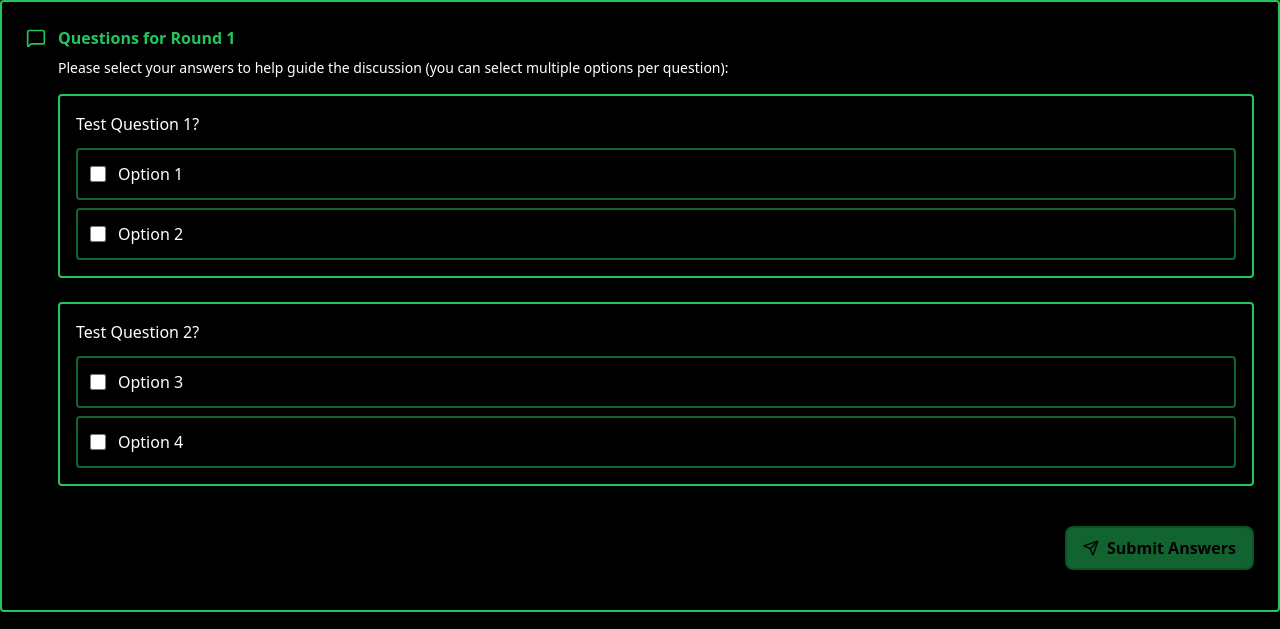
Scenario: QuestionGenerator Component › should show error message if trying to submit without answers
Click the checkbox labelled "Option 1". click: (98, 174)
box: [90, 166, 106, 182]
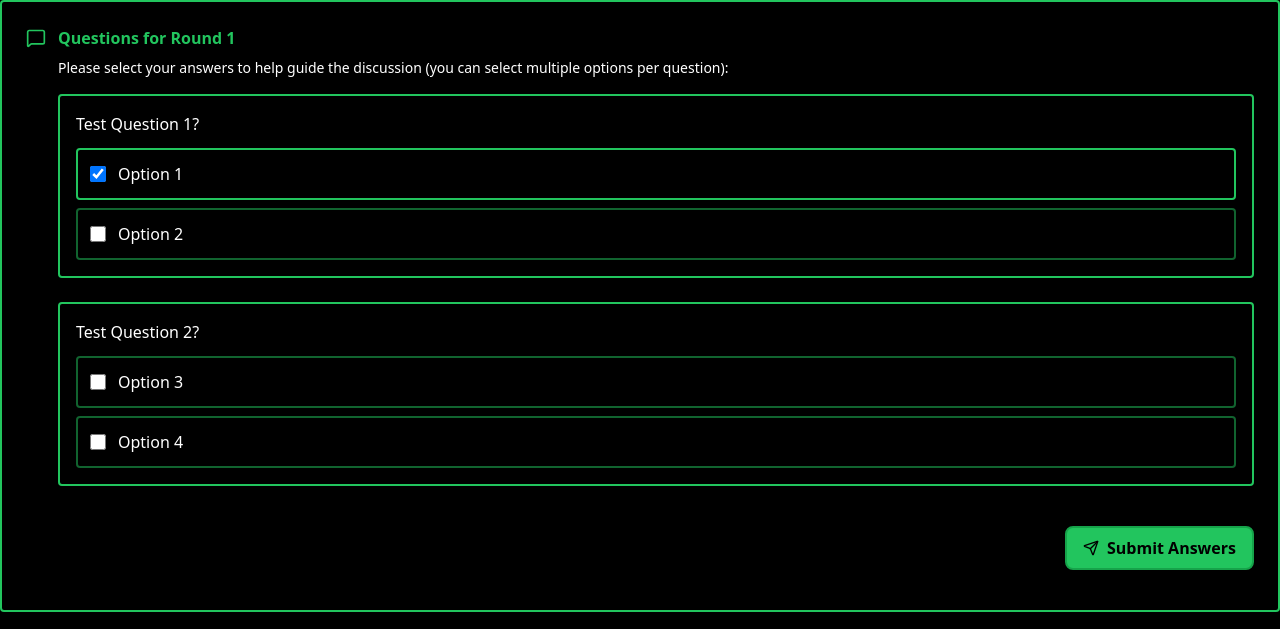
Click the checkbox labelled "Option 1". click: (98, 174)
box: [90, 166, 106, 182]
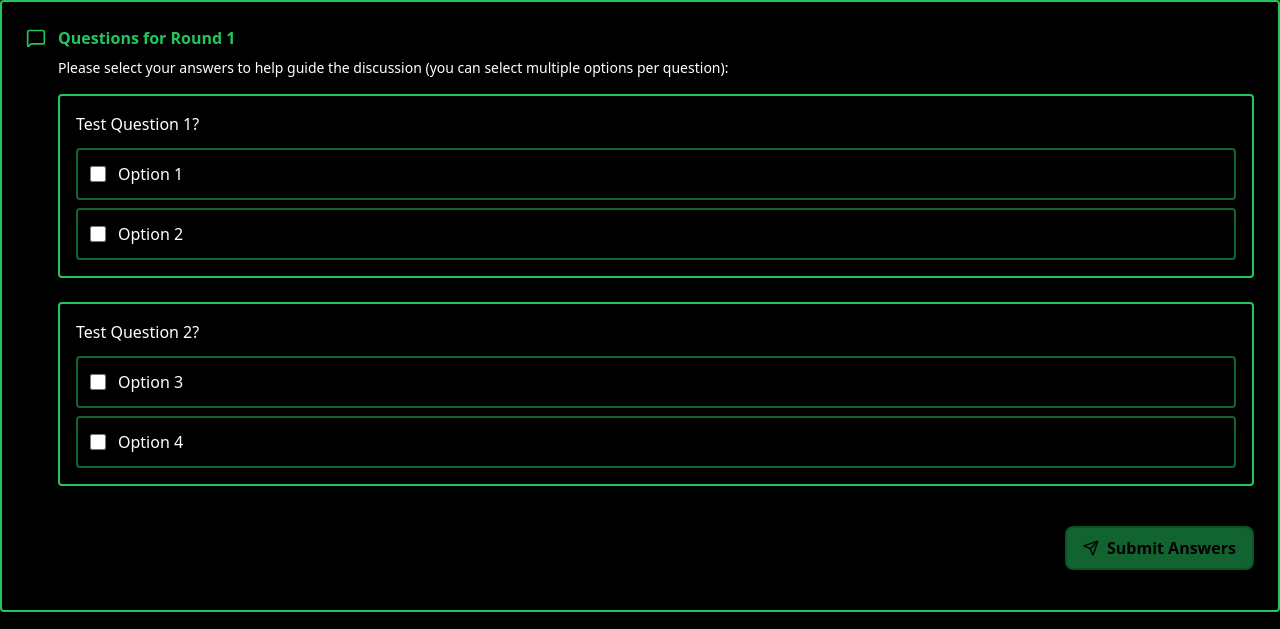
Result: the button "Submit Answers" is disabled at [1065, 526, 1254, 570]
